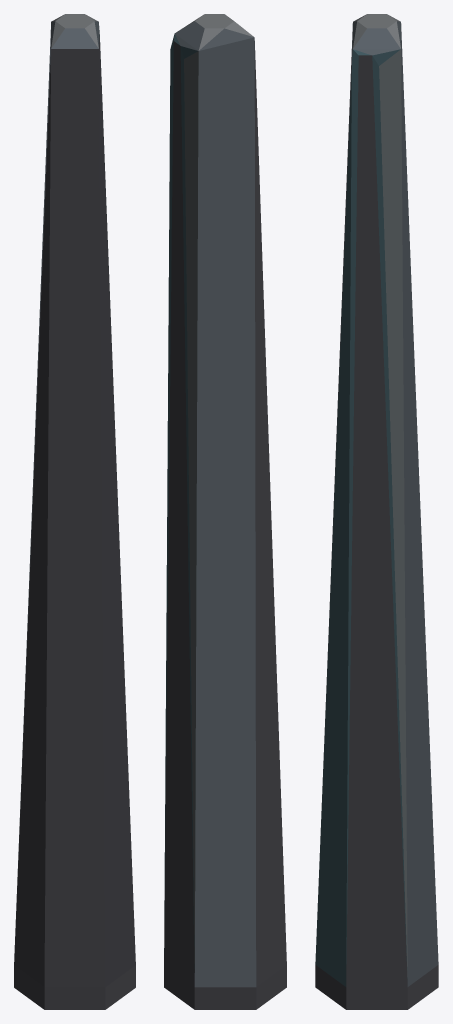
File: US_PHO_Virginia_COLLISION.fbx
The picture shows the model from 3 angles, left to right: view 1: azimuth 90°, elevation 25°; view 2: azimuth 210°, elevation 25°; view 3: azimuth 270°, elevation 25°; orthographic projection.
Visible parts, largest first — view 1: UCX_SEN_US_PHO_Virginia_00; view 2: UCX_SEN_US_PHO_Virginia_00; view 3: UCX_SEN_US_PHO_Virginia_00.
Boxes of the visible parts, <box> form: UCX_SEN_US_PHO_Virginia_00: <box>14,14,135,1009</box>; UCX_SEN_US_PHO_Virginia_00: <box>164,14,286,1009</box>; UCX_SEN_US_PHO_Virginia_00: <box>315,14,438,1009</box>.
Bounding box in the file's own units: 1.02 × 1.18 × 10.23.
